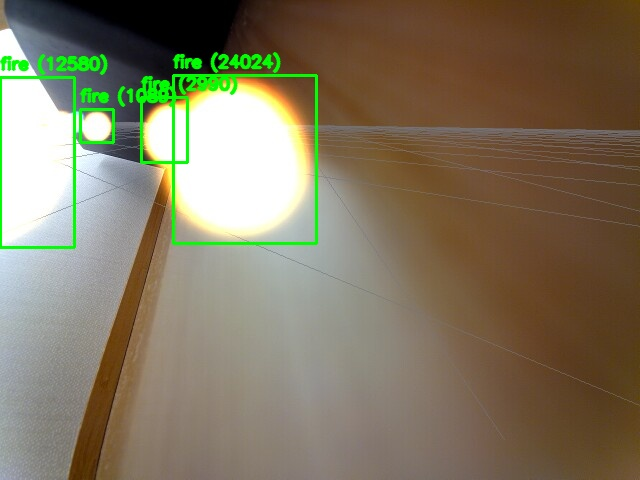fire: (173, 75, 316, 243), (0, 77, 74, 247), (141, 97, 187, 162), (80, 109, 113, 142)
